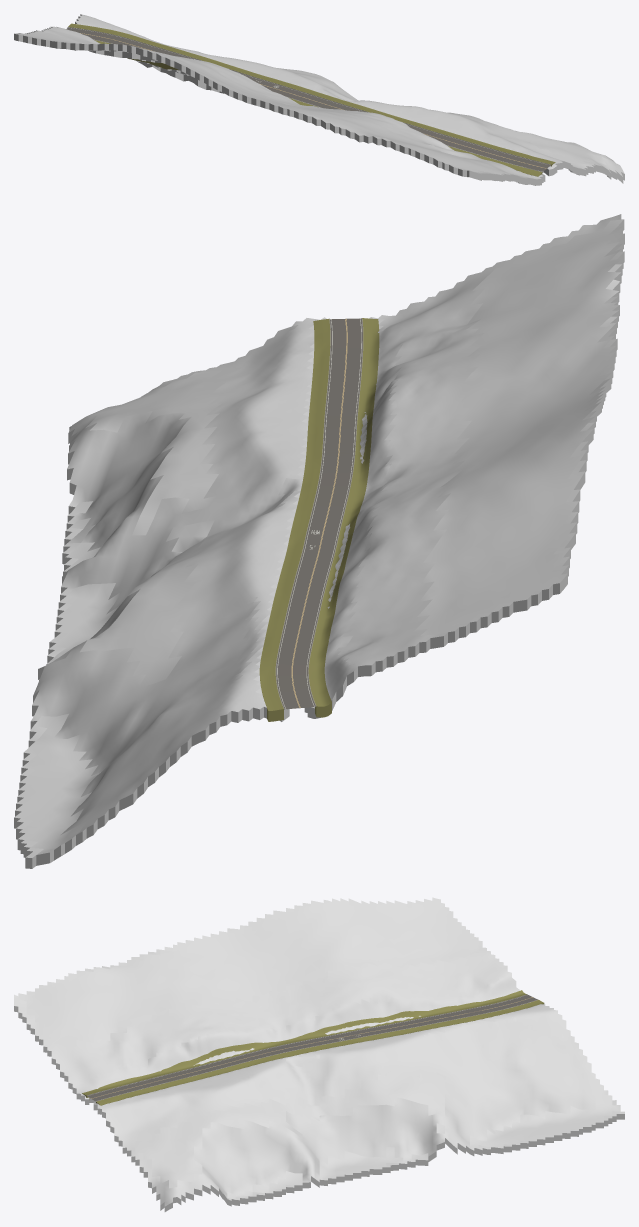
File: conz_81.glb
The picture shows the model from 3 angles, top to bottom: view 1: azimuth 30°, elevation 25°; view 2: azimuth 150°, elevation 25°; view 3: azimuth 270°, elevation 25°; orthographic projection. The views are drawn at different scales.
Visible parts, largest first — view 1: terrain81, road81, verge81L, verge81R, kerb81_80228, paint_yellow81; view 2: terrain81, road81, verge81L, verge81R, paint_white81; view 3: terrain81, road81, verge81R, verge81L, kerb81_80186.
Part boxes in pixels (x1,y1,x2,y2): terrain81: [14, 14, 624, 185]; road81: [66, 27, 550, 171]; verge81L: [68, 23, 555, 166]; verge81R: [94, 40, 542, 176]; kerb81_80228: [68, 27, 550, 164]; paint_yellow81: [80, 33, 546, 168]; terrain81: [14, 214, 624, 868]; road81: [276, 318, 362, 709]; verge81L: [259, 319, 330, 721]; verge81R: [308, 318, 379, 717]; paint_white81: [277, 318, 361, 708]; terrain81: [14, 897, 624, 1211]; road81: [87, 994, 537, 1101]; verge81R: [82, 990, 526, 1099]; verge81L: [96, 1000, 544, 1105]; kerb81_80186: [86, 994, 527, 1095].
Bounding box in the file's own units: 216 × 81.57 × 292.
